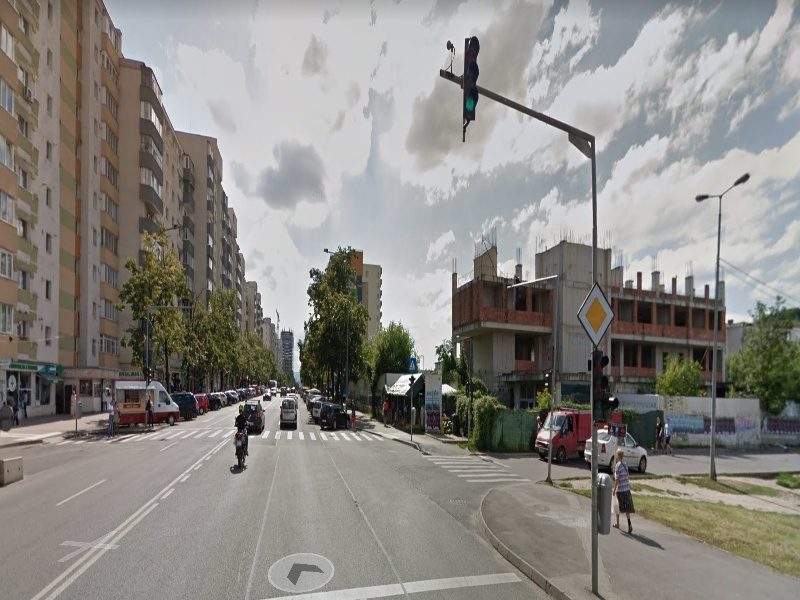crosswalk: (73, 422, 393, 447), (417, 450, 540, 489)
crosswalk_sign: (408, 357, 420, 372)
pedestrian: (610, 448, 637, 538)
semaphore: (591, 348, 621, 425), (460, 36, 483, 126)
